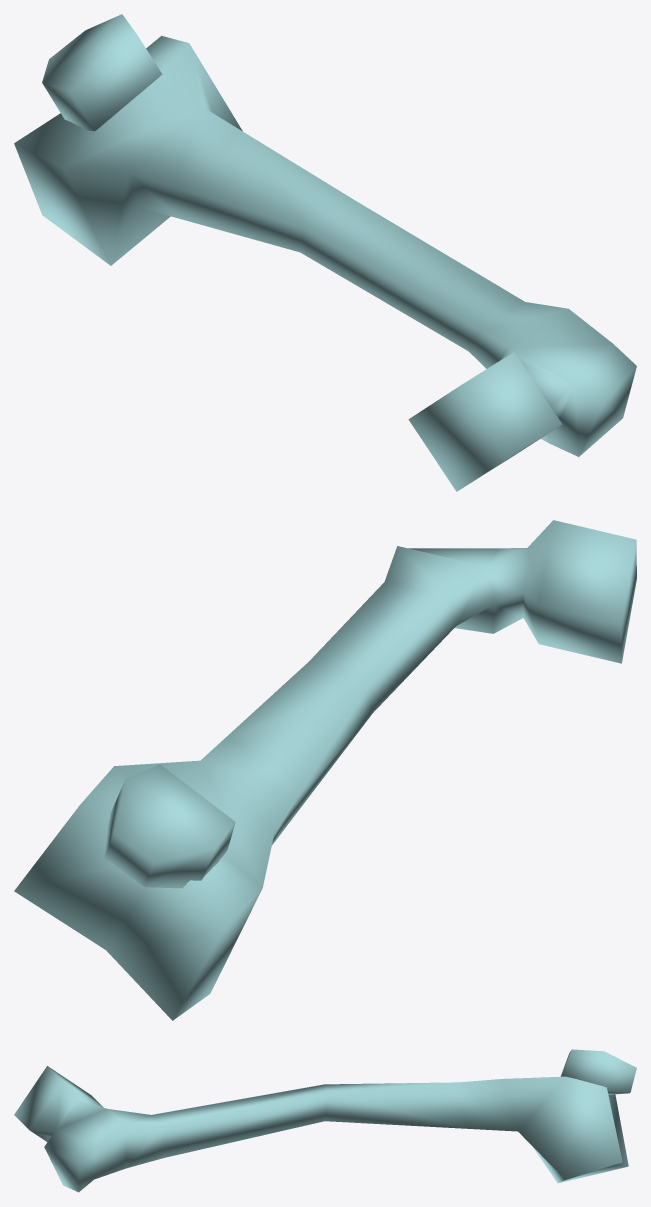
The model's file is skelly_thigh.R.fbx.
The picture shows the model from 3 angles, top to bottom: view 1: azimuth 30°, elevation 25°; view 2: azimuth 150°, elevation 25°; view 3: azimuth 270°, elevation 25°; orthographic projection. The views are drawn at different scales.
Visible parts, largest first — view 1: skelly_thigh.R; view 2: skelly_thigh.R; view 3: skelly_thigh.R.
Part boxes in pixels (x1,y1,x2,y2): skelly_thigh.R: (14, 14, 636, 491); skelly_thigh.R: (14, 520, 636, 1020); skelly_thigh.R: (14, 1049, 636, 1192).
Size of the model in its own units: 14.37 by 12.88 by 49.36.
